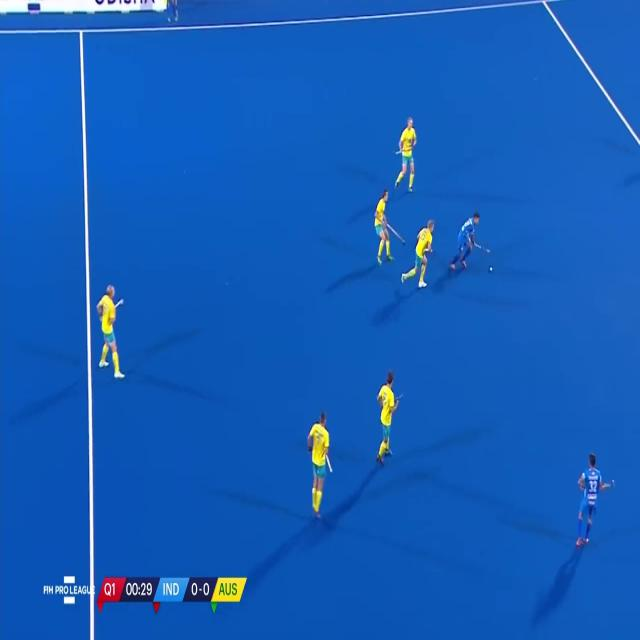ball: (487, 260, 495, 275)
